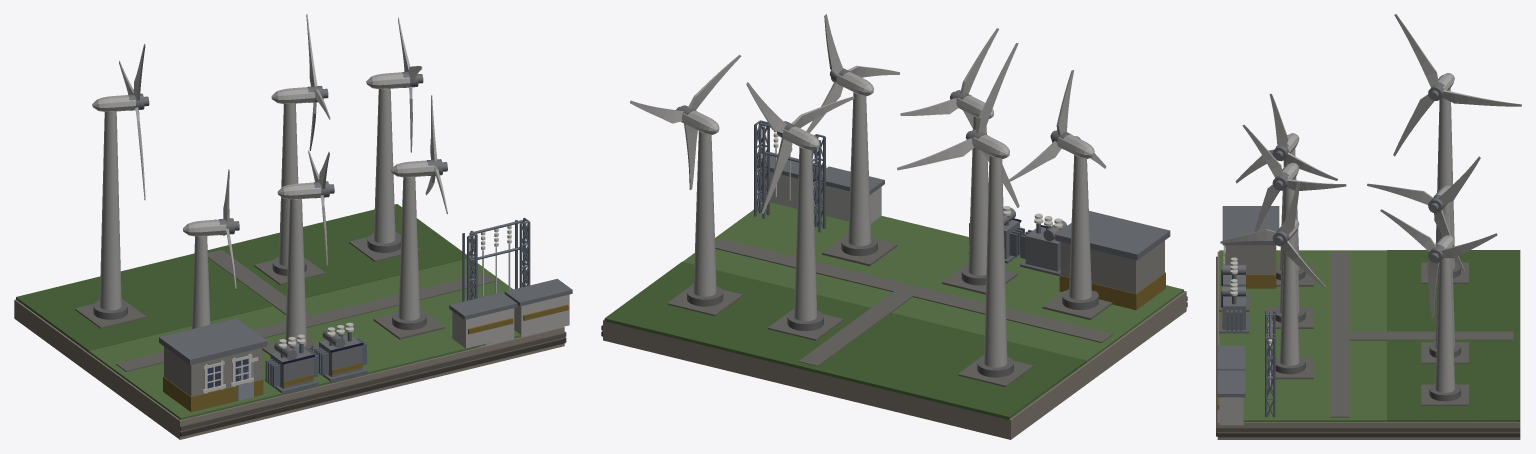
Rendered from onshore_wind_farm_lvl3.glb.
The picture shows the model from 3 angles, left to right: view 1: azimuth 30°, elevation 25°; view 2: azimuth 150°, elevation 25°; view 3: azimuth 270°, elevation 25°; orthographic projection. The views are drawn at different scales.
Parts seen in each view (by area): view 1: onshore_wind_farm; view 2: onshore_wind_farm; view 3: onshore_wind_farm.
Part boxes in pixels (x1,y1,x2,y2): onshore_wind_farm: (14,14,572,439); onshore_wind_farm: (601,14,1187,439); onshore_wind_farm: (1216,14,1521,439).
Size of the model in its own units: 1 by 0.7531 by 0.7394.
